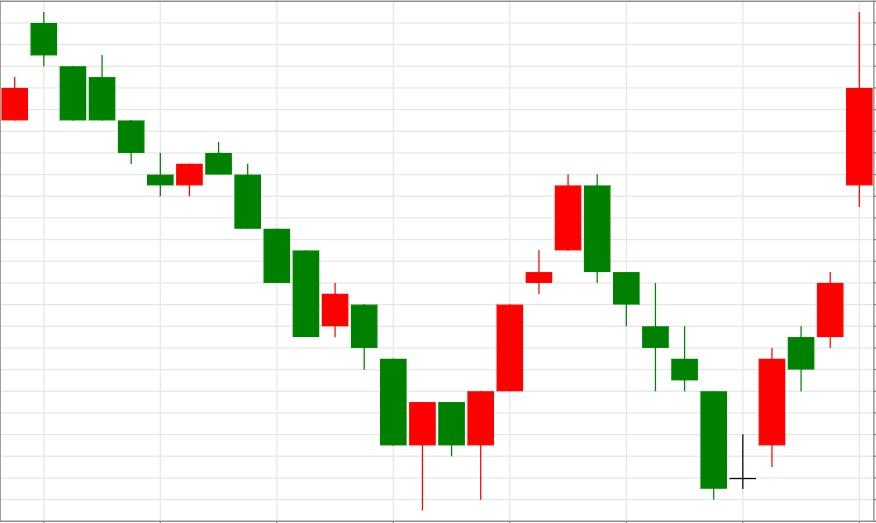bearish_engulfing_fall: (467, 174, 611, 500)
three_black_crows_fall: (147, 140, 291, 284)
three_white_soldiers_rise: (206, 140, 553, 511)
